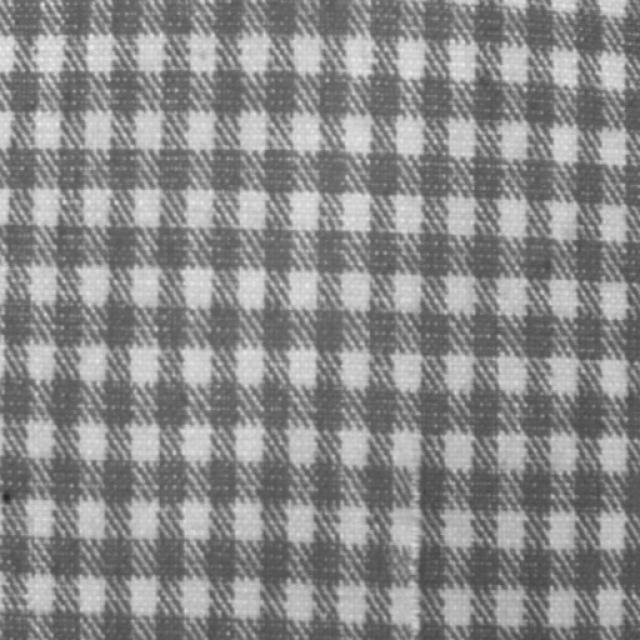Thread-Defect: (405, 465, 421, 639)
